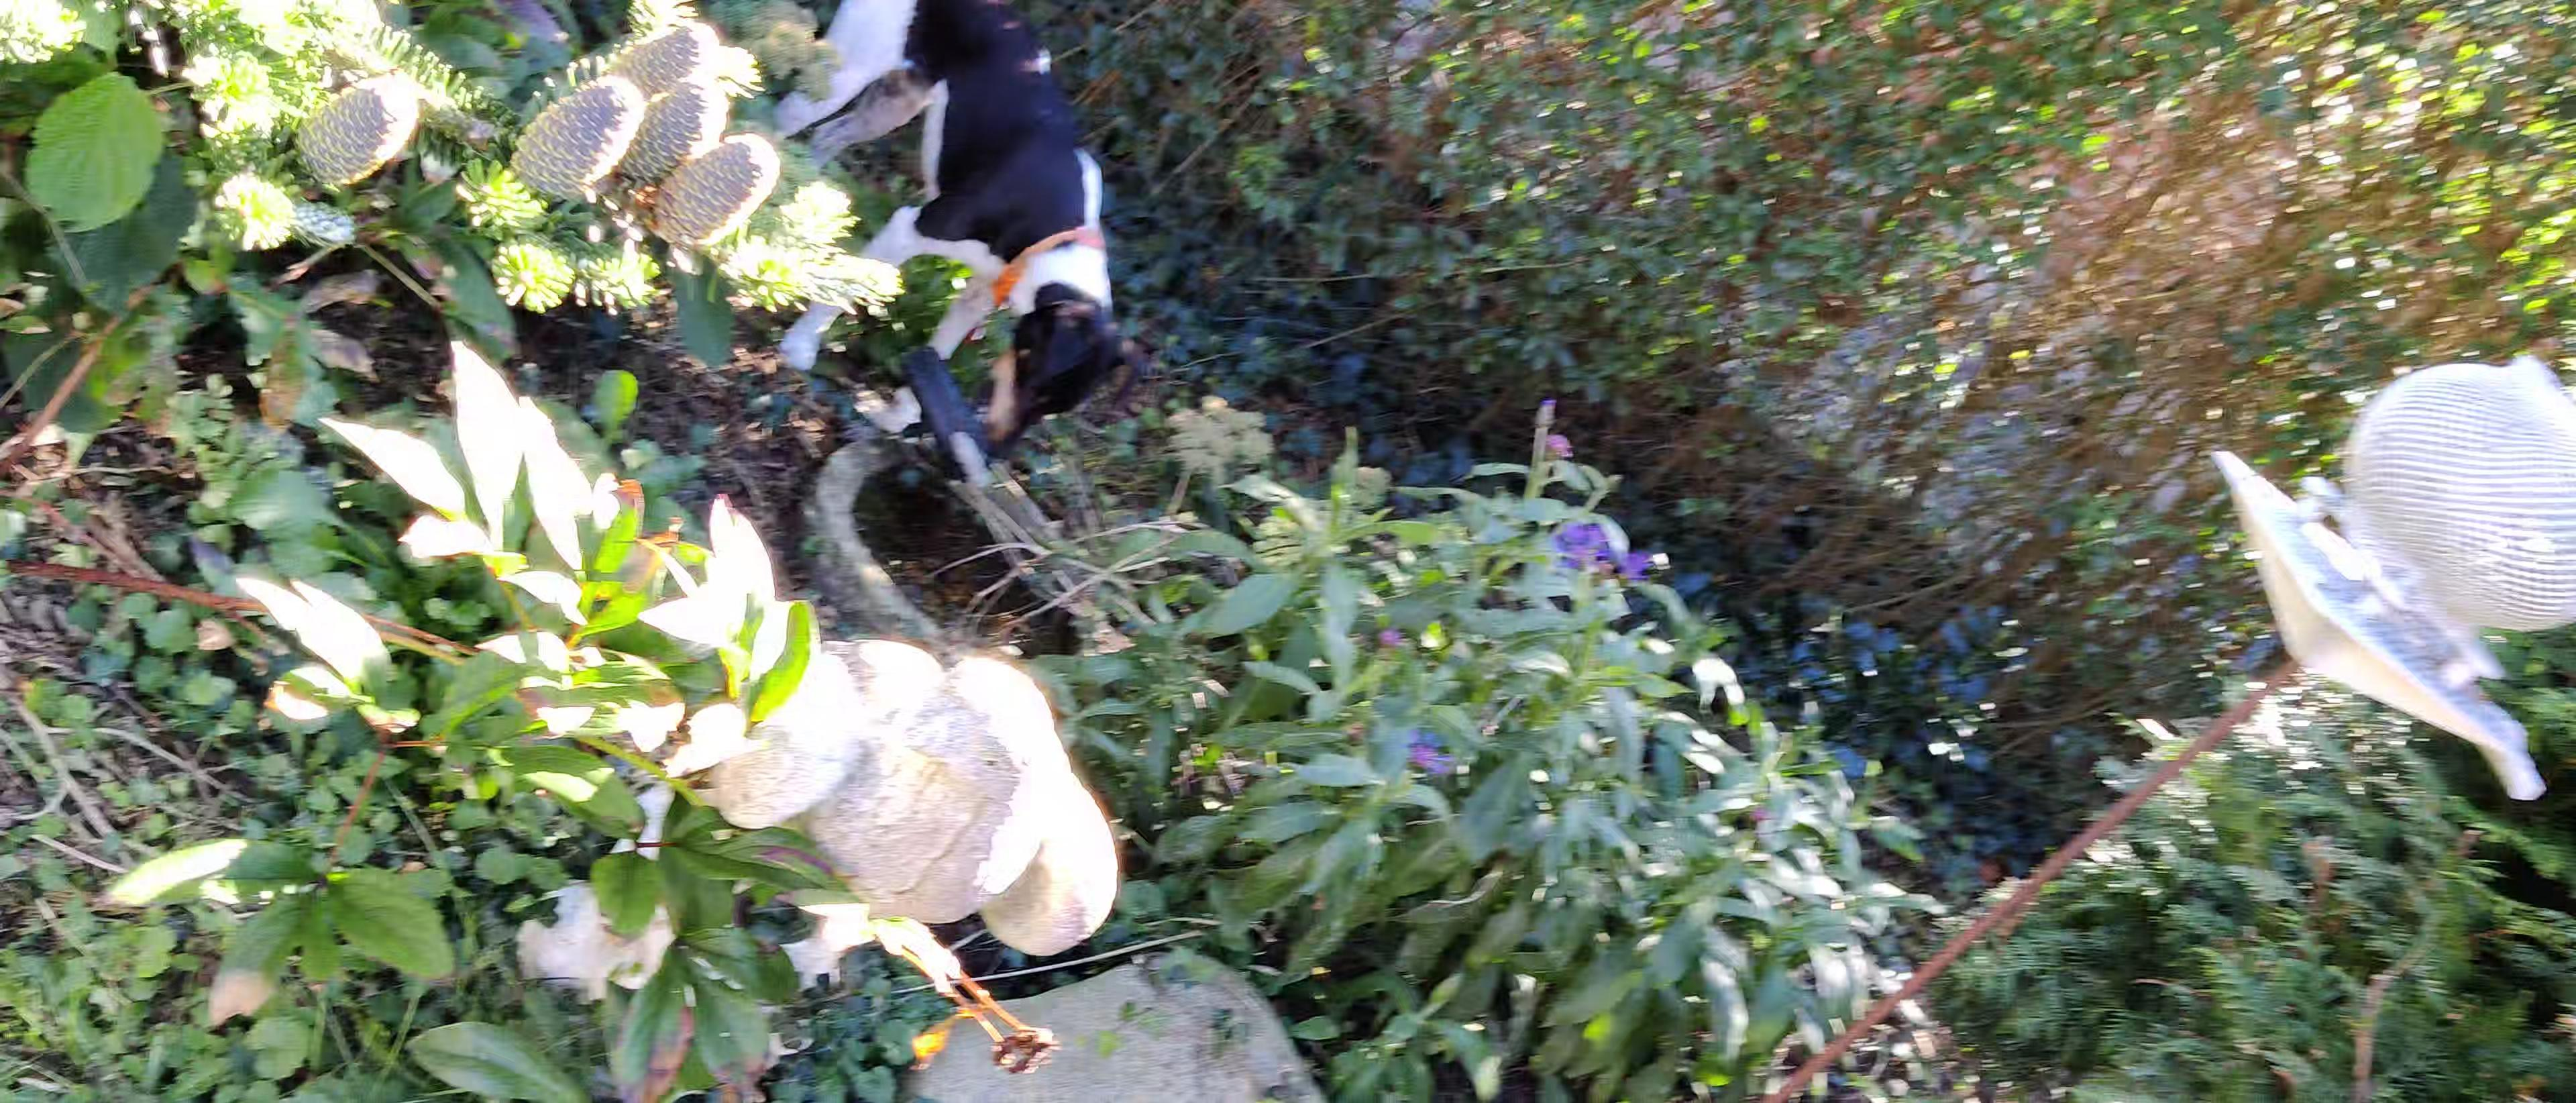Dog: (731, 0, 1161, 452)
